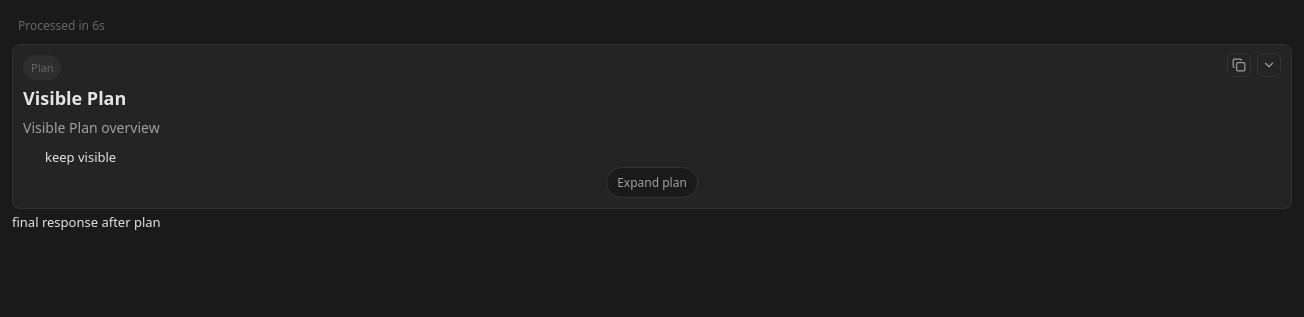
it: AgentResponseBlock completed turn folding › keeps the final CreatePlan visible while folding earlier intermediate work
Expected: the text "Processed in 6s" is shown, [18,15,105,36]
Expected: the heading "Visible Plan" is shown, [23,86,126,110]
What coordinates should you click on to do the following:
click the button "Processed in 6s"
I would click on:
 (61, 26)
Its box is [12,12,1292,40].
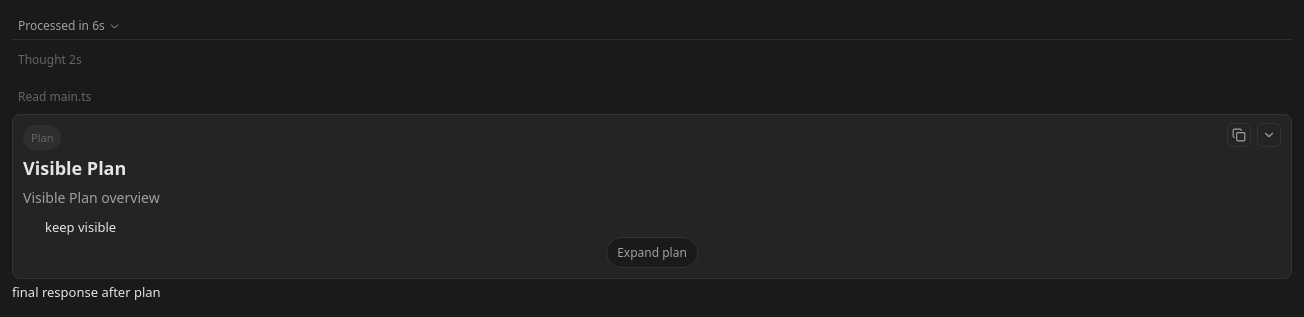
Now the text "Read main.ts" is shown, box [18,86,91,107]
